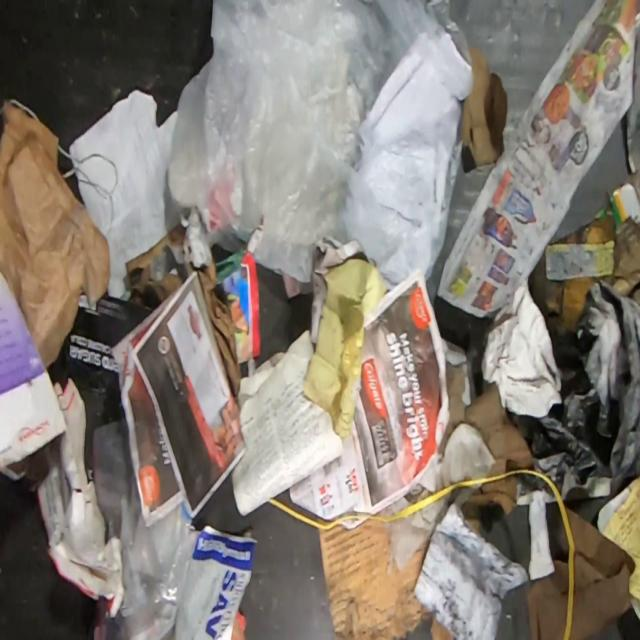cardboard: (0, 97, 108, 369), (317, 509, 432, 639), (528, 503, 635, 639), (459, 500, 482, 532)
soft_plastic: (168, 0, 474, 295), (94, 418, 196, 639)
